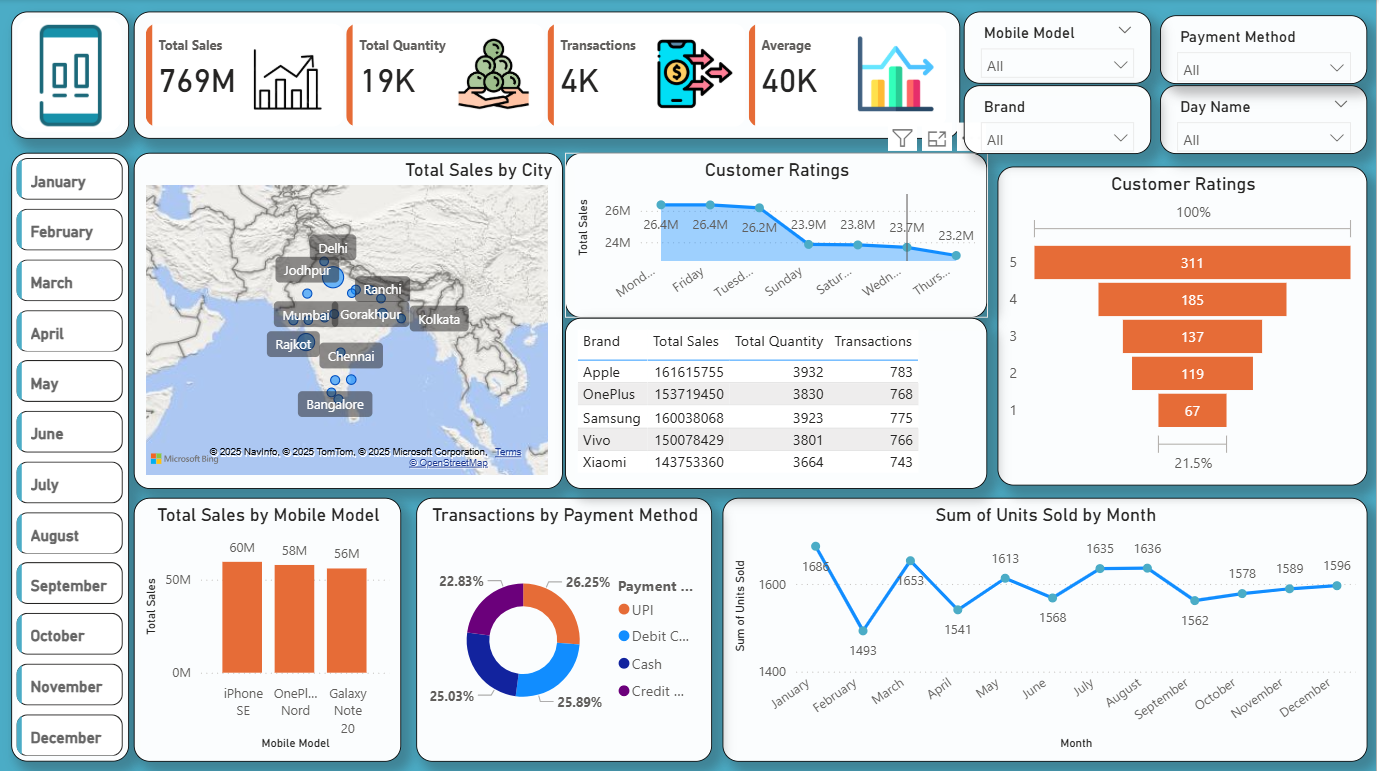

Layout of this report page (visuals, bound fields, positions):
{"tool":"powerbi","page":{"name":"Page 1","canvas":[1280,720],"ordinal":0},"visuals":[{"type":"shape","box":[10.5,11.6,109.3,118.6],"z":0},{"type":"image","box":[7,11.6,117.4,118.6],"z":1000},{"type":"shape","box":[10.5,143,109.3,566.3],"z":2000},{"type":"advancedSlicerVisual","fields":{"Values":["Sales_Data.Date.Variation.Date Hierarchy.Month"]},"box":[10.5,143,109.3,566.3],"z":3000},{"type":"cardVisual","fields":{"Data":["Sales_Data.Total Sales","Sales_Data.Total Quantity","Sales_Data.Transactions","Sales_Data.Average"]},"box":[124.4,11.6,768.6,118.6],"z":4000},{"type":"map","fields":{"Category":["Sales_Data.City"],"Size":["Sales_Data.Total Sales"]},"box":[124.4,143,398.8,312.8],"z":5000},{"type":"lineChart","fields":{"Y":["Sum(Sales_Data.Units Sold)"],"Category":["Sales_Data.Date.Variation.Date Hierarchy.Month","Sales_Data.Date.Variation.Date Hierarchy.Day"]},"box":[672.1,464,600,245.3],"z":6000},{"type":"clusteredColumnChart","fields":{"Category":["Sales_Data.Mobile Model"],"Y":["Sales_Data.Total Sales"]},"box":[124.4,464,248.8,245.3],"z":7000},{"type":"donutChart","fields":{"Category":["Sales_Data.Payment Method"],"Y":["Sales_Data.Transactions"]},"box":[387.2,464,275.6,245.3],"z":8000},{"type":"funnel","title":"Customer Ratings","fields":{"Category":["Sales_Data.Customer Ratings"],"Y":["CountNonNull(Sales_Data.Customer Ratings)"]},"box":[927.9,155.8,344.2,296.5],"z":9000},{"type":"areaChart","title":"Customer Ratings","fields":{"Category":["Sales_Data.Day Name"],"Y":["Sales_Data.Total Sales"]},"box":[525.6,143,393,153.5],"z":10000},{"type":"tableEx","fields":{"Values":["Sales_Data.Brand","Sales_Data.Total Sales","Sales_Data.Total Quantity","Sales_Data.Transactions"]},"box":[525.6,296.5,393,159.3],"z":11000},{"type":"slicer","fields":{"Values":["Sales_Data.Day Name"]},"box":[1079.1,80.2,193,64],"z":11001},{"type":"slicer","fields":{"Values":["Sales_Data.Payment Method"]},"box":[1079.1,15.1,193,64],"z":11002},{"type":"slicer","fields":{"Values":["Sales_Data.Mobile Model"]},"box":[896.5,11.6,174.4,67.4],"z":11003},{"type":"slicer","fields":{"Values":["Sales_Data.Brand"]},"box":[896.5,80.2,174.4,64],"z":11004}]}

Visuals, with their boxes in screenshot pixels (x1, y1, x2, y2), scaled from the page's 1280x720 canvas onto the 1379x771 screenshot:
shape: rect(11, 12, 129, 139)
image: rect(8, 12, 134, 139)
shape: rect(11, 153, 129, 760)
advancedSlicerVisual - Sales_Data.Date.Variation.Date Hierarchy.Month: rect(11, 153, 129, 760)
cardVisual - Sales_Data.Total Sales x Sales_Data.Total Quantity: rect(134, 12, 962, 139)
map - Sales_Data.City x Sales_Data.Total Sales: rect(134, 153, 564, 488)
lineChart - Sum(Sales_Data.Units Sold) x Sales_Data.Date.Variation.Date Hierarchy.Month: rect(724, 497, 1370, 760)
clusteredColumnChart - Sales_Data.Mobile Model x Sales_Data.Total Sales: rect(134, 497, 402, 760)
donutChart - Sales_Data.Payment Method x Sales_Data.Transactions: rect(417, 497, 714, 760)
"Customer Ratings" funnel: rect(1000, 167, 1370, 484)
"Customer Ratings" areaChart: rect(566, 153, 990, 318)
tableEx - Sales_Data.Brand x Sales_Data.Total Sales: rect(566, 318, 990, 488)
slicer - Sales_Data.Day Name: rect(1163, 86, 1370, 154)
slicer - Sales_Data.Payment Method: rect(1163, 16, 1370, 85)
slicer - Sales_Data.Mobile Model: rect(966, 12, 1154, 85)
slicer - Sales_Data.Brand: rect(966, 86, 1154, 154)
